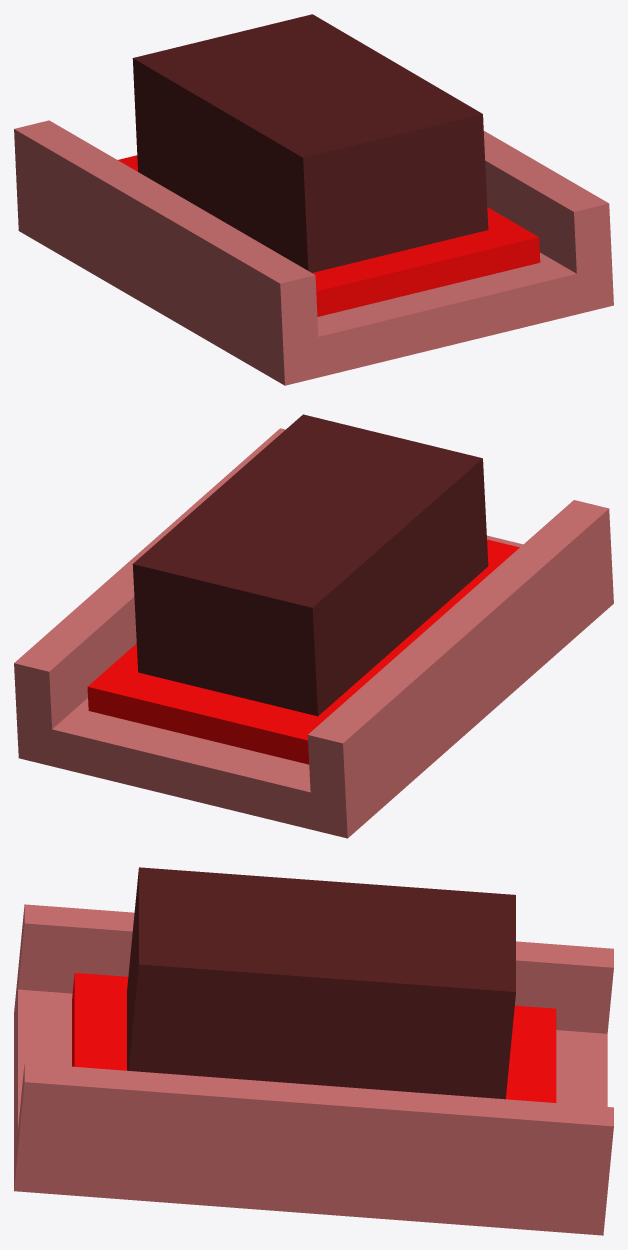
Rendered from Hat 05.FBX.
3 renders of one model, top to bottom at view 1: azimuth 30°, elevation 25°; view 2: azimuth 150°, elevation 25°; view 3: azimuth 270°, elevation 25°, orthographic. The views are drawn at different scales.
Visible parts, largest first — view 1: Hat 05; view 2: Hat 05; view 3: Hat 05.
Boxes of the visible parts, bbox=[...] form: Hat 05: bbox=[14, 14, 613, 385]; Hat 05: bbox=[14, 414, 613, 838]; Hat 05: bbox=[14, 867, 613, 1235].
Size of the model in its own units: 73.83 by 44.72 by 105.
